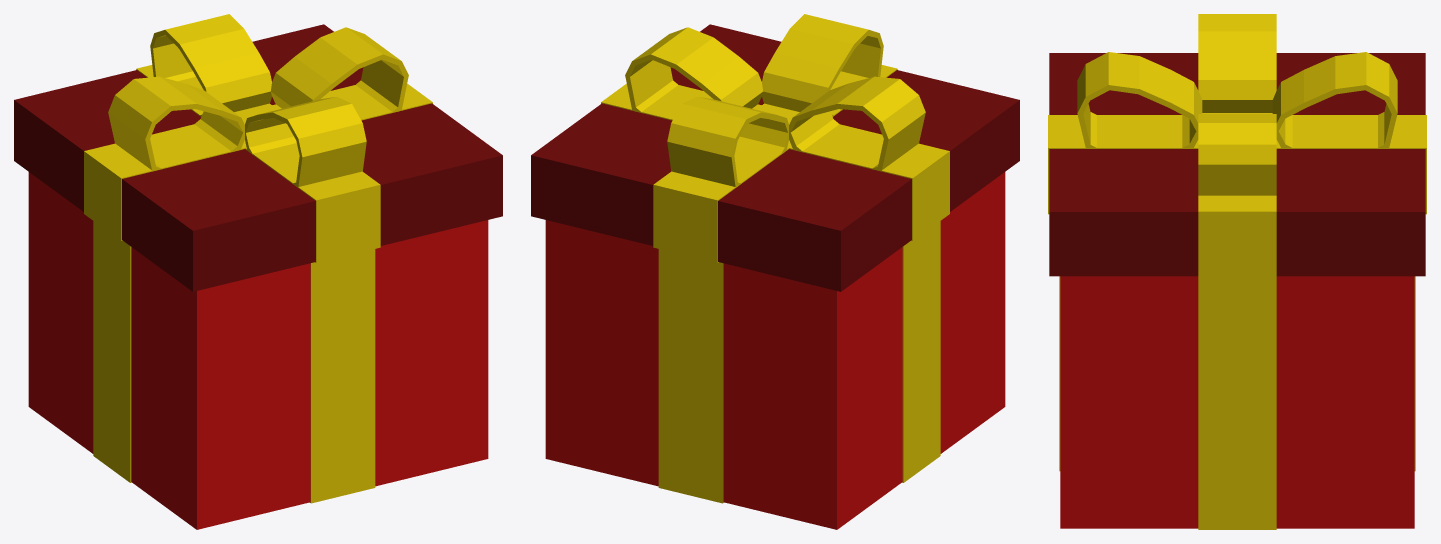
Rendered from regalo.fbx.
3 renders of one model, left to right at view 1: azimuth 30°, elevation 25°; view 2: azimuth 150°, elevation 25°; view 3: azimuth 270°, elevation 25°, orthographic. The views are drawn at different scales.
Visible parts, largest first — view 1: regalo; view 2: regalo; view 3: regalo.
Boxes of the visible parts, <box> form: regalo: <box>14,14,502,529</box>; regalo: <box>531,14,1019,529</box>; regalo: <box>1048,14,1426,529</box>.
Size of the model in its own units: 32.07 by 36.08 by 32.07.
